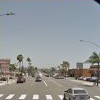crosswalk: (0, 93, 99, 100)
